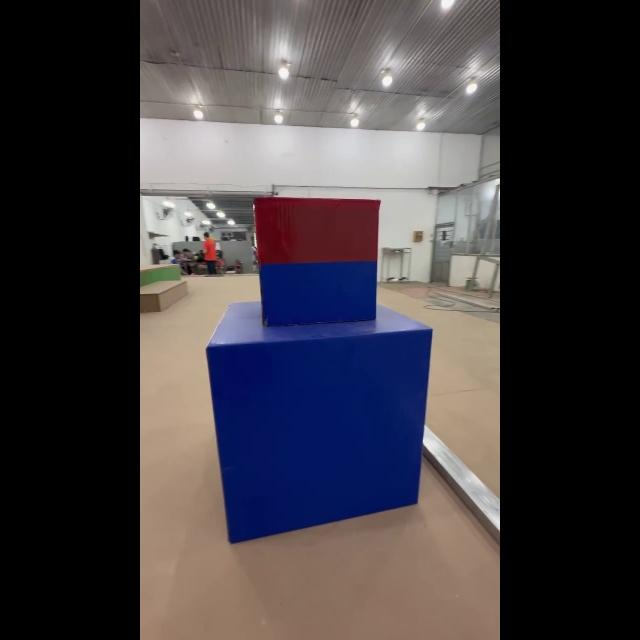earth_block: (206, 301, 435, 546)
sky_block: (250, 190, 382, 326)
